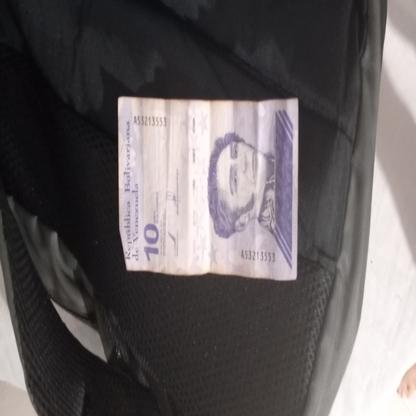ten-front-vef: (117, 96, 299, 282)
